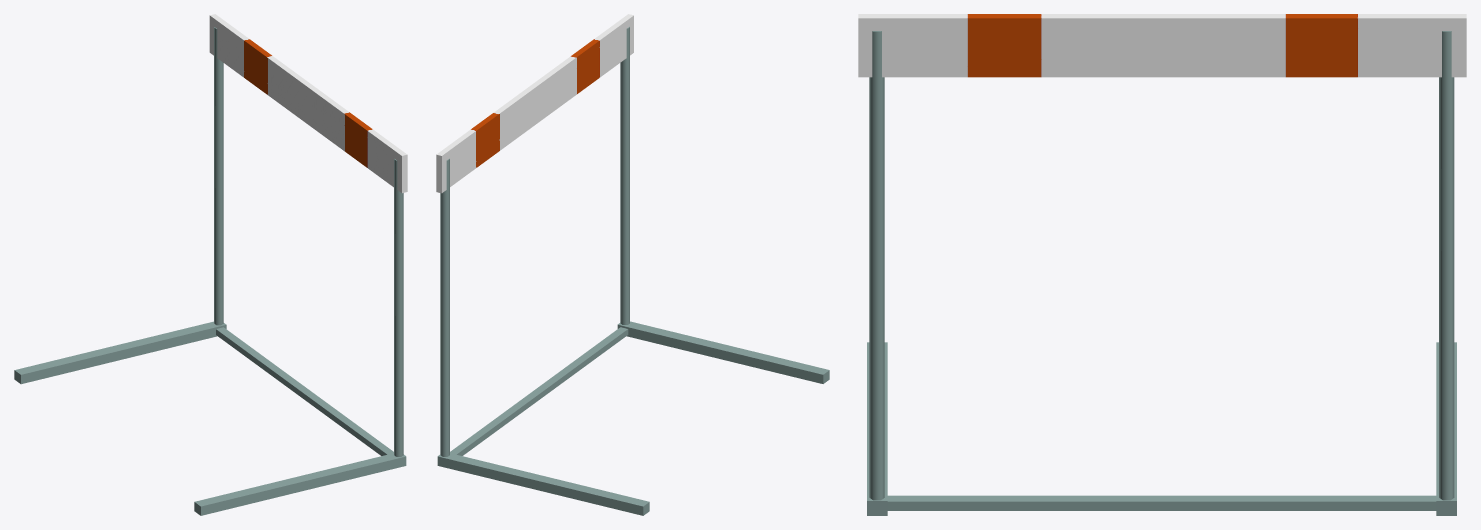
The model's file is HURDLE__110m_man.FBX.
The picture shows the model from 3 angles, left to right: view 1: azimuth 30°, elevation 25°; view 2: azimuth 150°, elevation 25°; view 3: azimuth 270°, elevation 25°; orthographic projection. The views are drawn at different scales.
Visible parts, largest first — view 1: HURDLE__110m_man; view 2: HURDLE__110m_man; view 3: HURDLE__110m_man.
Part boxes in pixels (x1,y1,x2,y2): HURDLE__110m_man: (14,14,407,515); HURDLE__110m_man: (436,14,829,515); HURDLE__110m_man: (858,14,1466,515).
Bounding box in the file's own units: 7.32 × 10.67 × 11.84.
